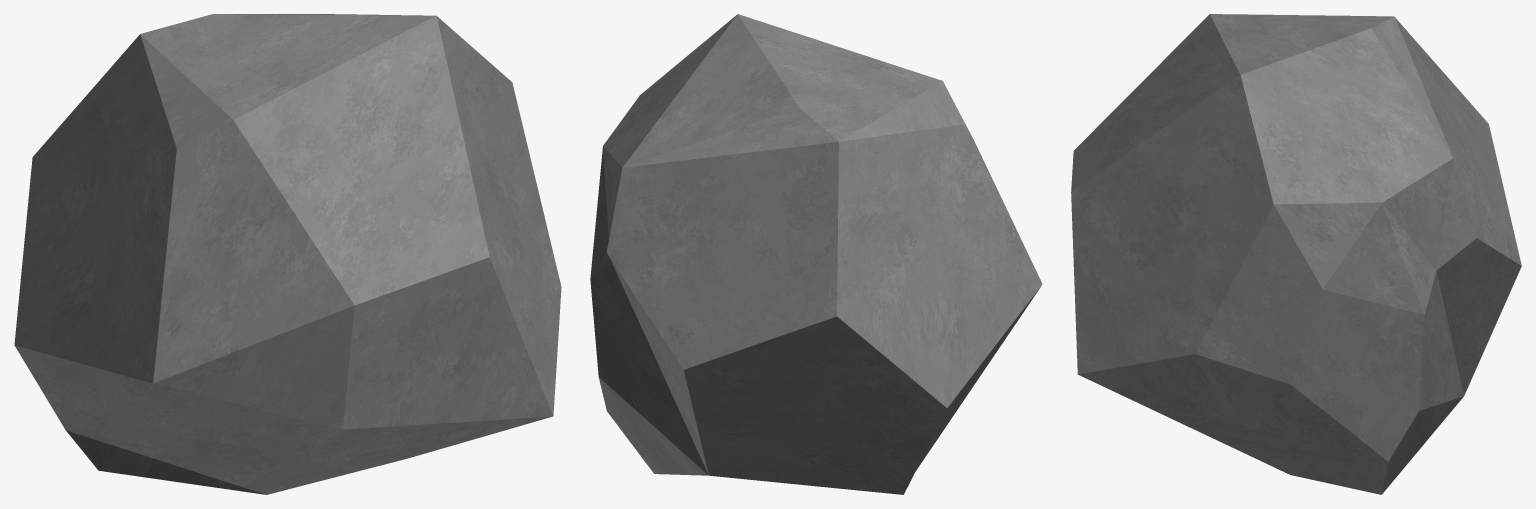
File: Rock_7.fbx
3 views of the same model, side by side, from view 1: azimuth 30°, elevation 25°; view 2: azimuth 150°, elevation 25°; view 3: azimuth 270°, elevation 25° (orthographic). The views are drawn at different scales.
Parts seen in each view (by area): view 1: Icosphere.035; view 2: Icosphere.035; view 3: Icosphere.035.
Part boxes in pixels (x1,y1,x2,y2): Icosphere.035: [14, 14, 561, 494]; Icosphere.035: [590, 14, 1042, 494]; Icosphere.035: [1071, 14, 1521, 494].
Size of the model in its own units: 162 by 166 by 164.
